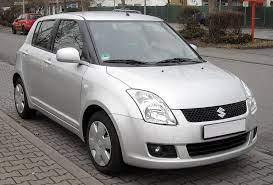Hatchback: (9, 9, 262, 175), (11, 14, 41, 34)
